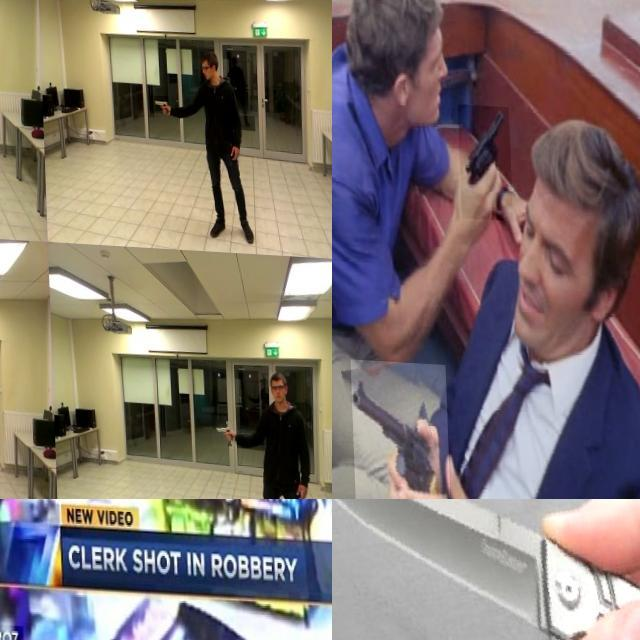-: (332, 499, 640, 640)
gun-knife-thesis - v11 Yolov5 augmented: (347, 356, 448, 499), (139, 499, 243, 570), (456, 100, 511, 217), (208, 414, 232, 442), (148, 90, 168, 109), (0, 80, 10, 99), (0, 395, 9, 414)
